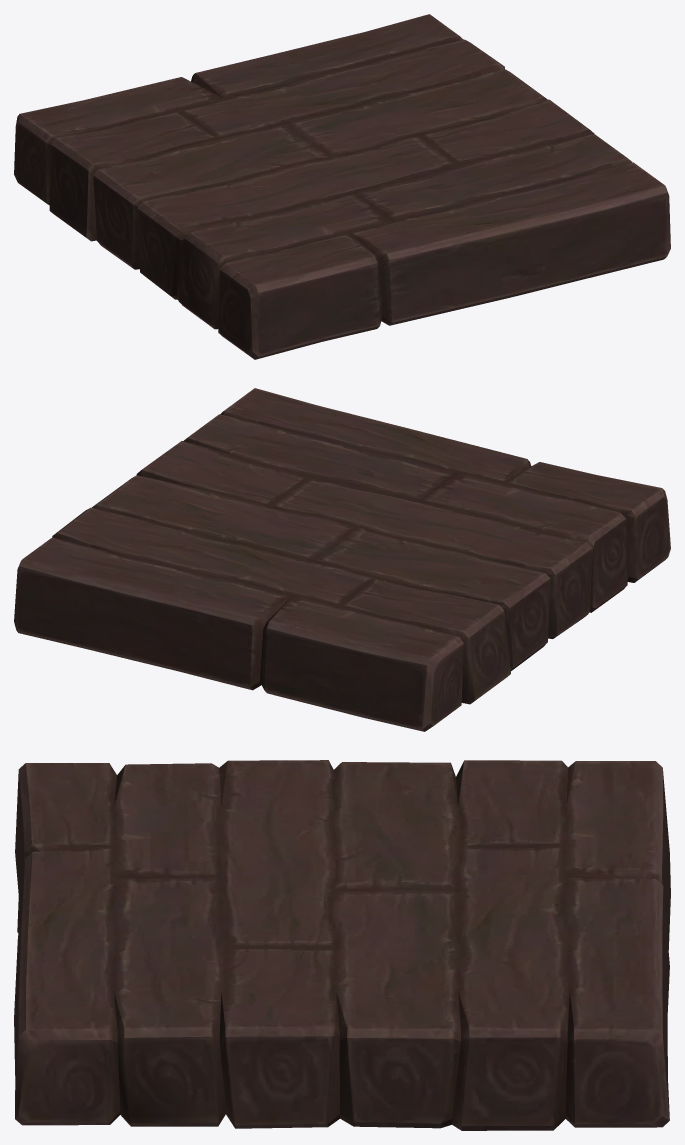
3 renders of one model, top to bottom at view 1: azimuth 30°, elevation 25°; view 2: azimuth 150°, elevation 25°; view 3: azimuth 270°, elevation 25°, orthographic. The views are drawn at different scales.
Size of the model in its own units: 5.06 by 0.8543 by 5.03.
1 material, 1 textured.
